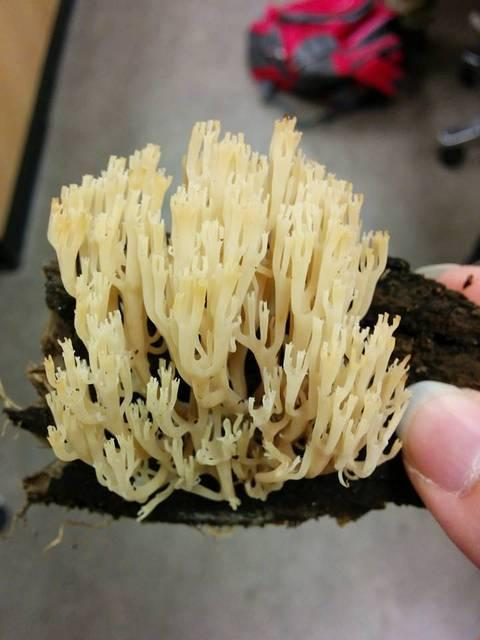Edible Mushroom: (37, 113, 414, 521)
